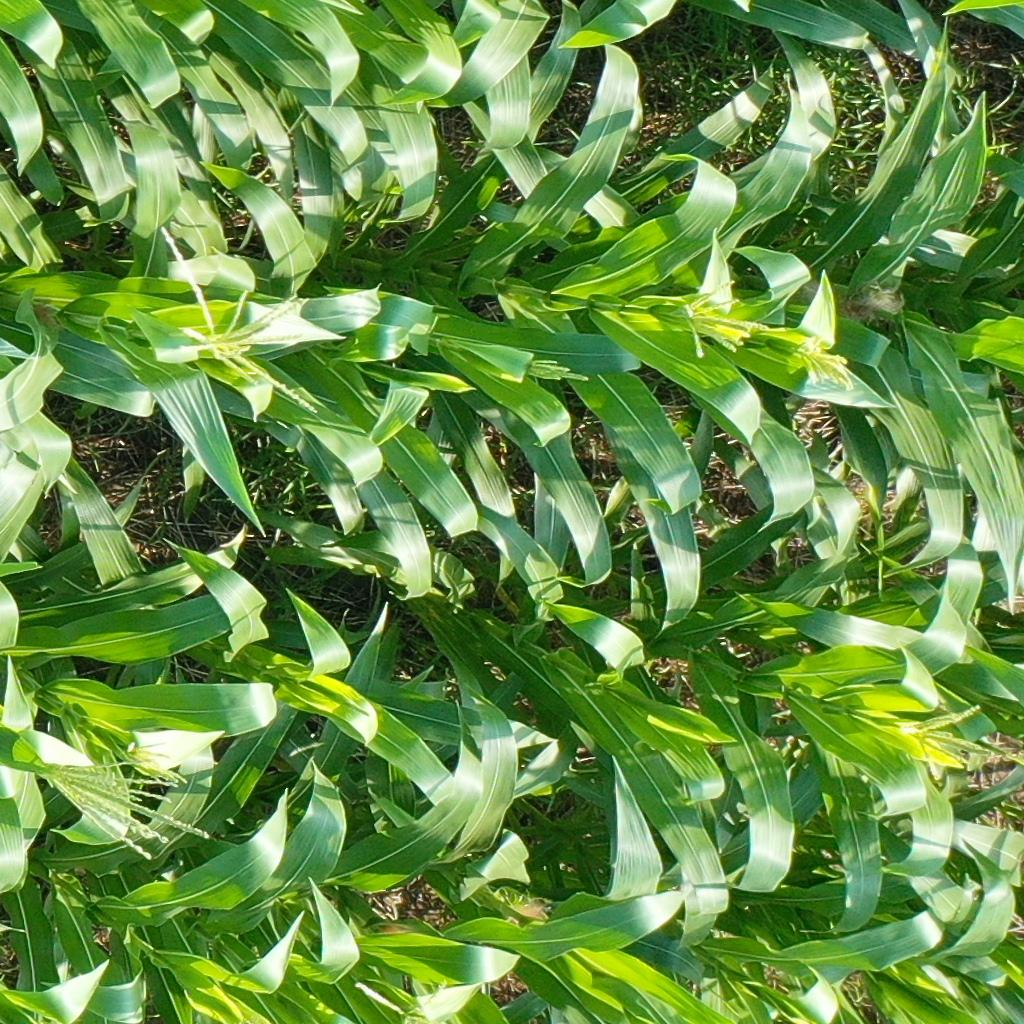Tassel: (154, 221, 331, 410), (23, 758, 213, 868), (893, 698, 1021, 780), (671, 280, 779, 360), (343, 970, 448, 1024), (786, 328, 866, 390), (121, 739, 188, 790), (522, 353, 590, 383)
